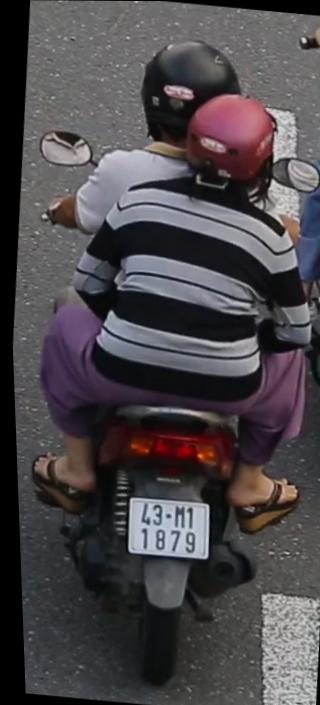LP: (113, 485, 212, 579)
helmet: (127, 30, 250, 138), (179, 83, 281, 202)
